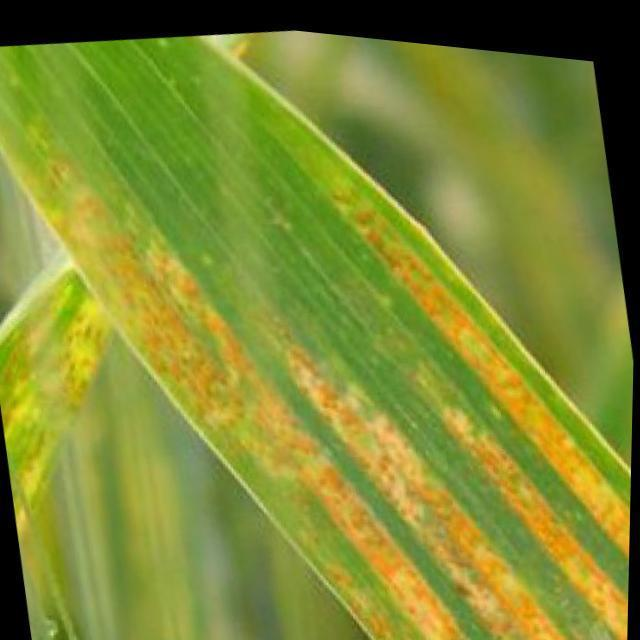Yellow Rust: (0, 30, 632, 639)
